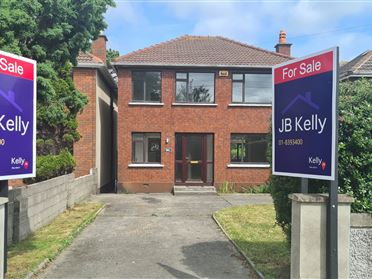property sign: (261, 42, 350, 180), (1, 47, 42, 186)
